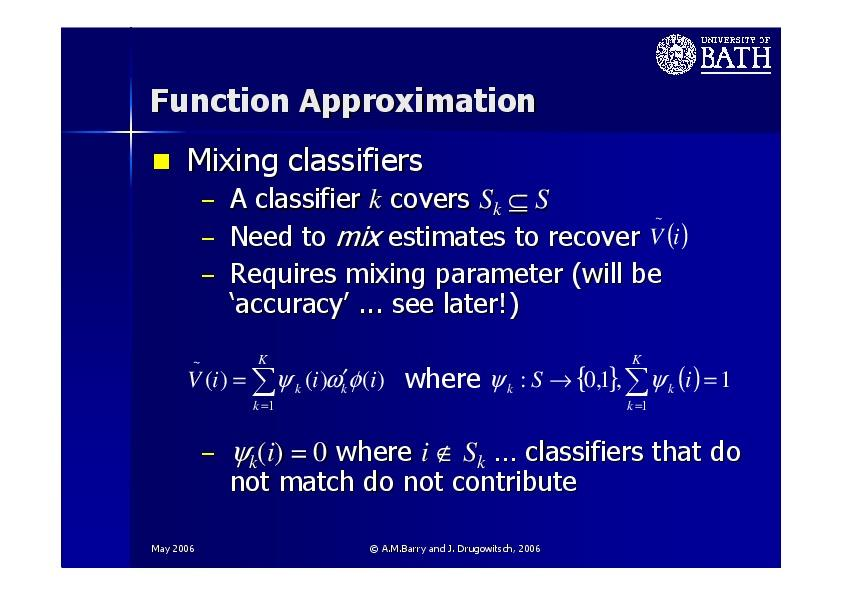paragraph: (148, 140, 759, 502)
title: (143, 72, 543, 126)
